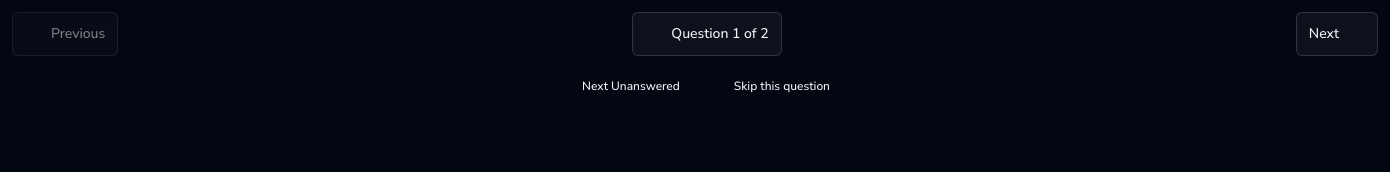
Test: QuestionNavigation - dropdown and getQuestionTitle › clicking the counter button again closes the dropdown
The width and height of the screenshot is (1390, 172).
Click the button "Question 1 of 2".
click(707, 34)  # box [632,12,782,56]
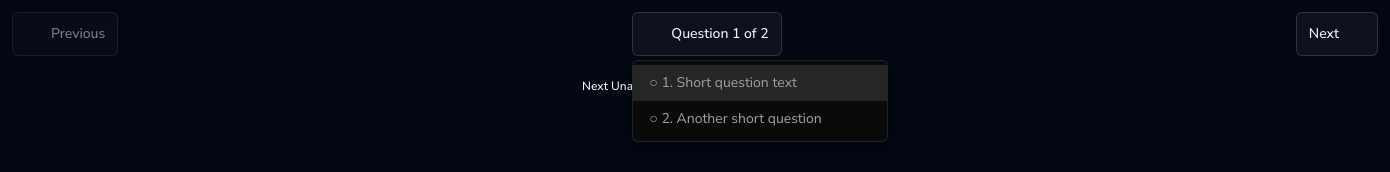
Expected: the list is shown, [633,61,887,141]
Click the button "Question 1 of 2".
click(707, 34)  # box [632,12,782,56]
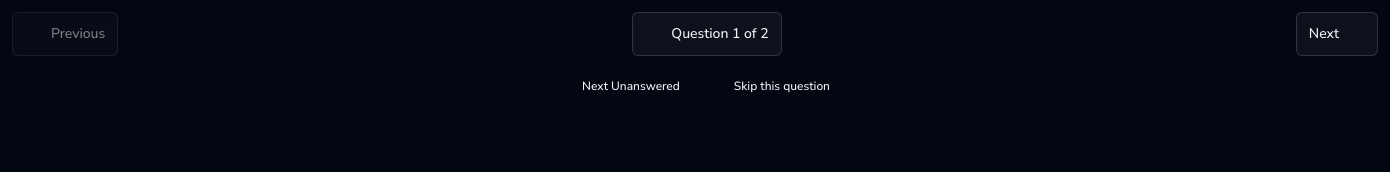
Expected: the list is gone
